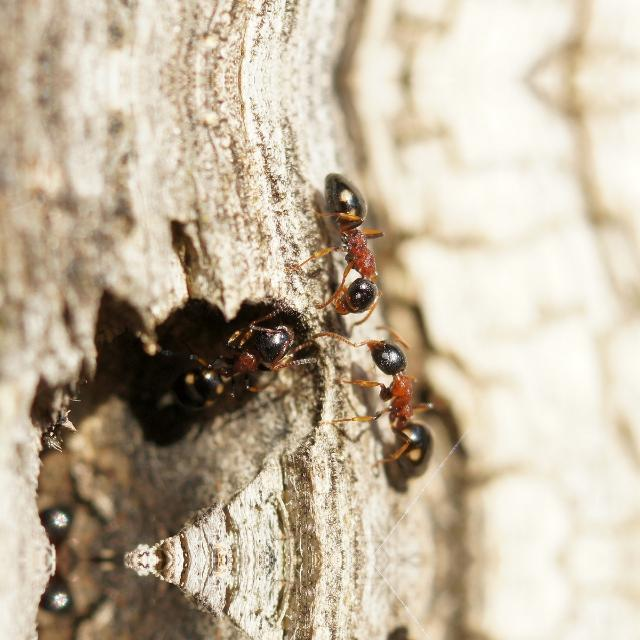Dolichoderus: (344, 326, 466, 476), (163, 304, 324, 414), (302, 170, 414, 322), (24, 493, 100, 557), (24, 563, 100, 627)
